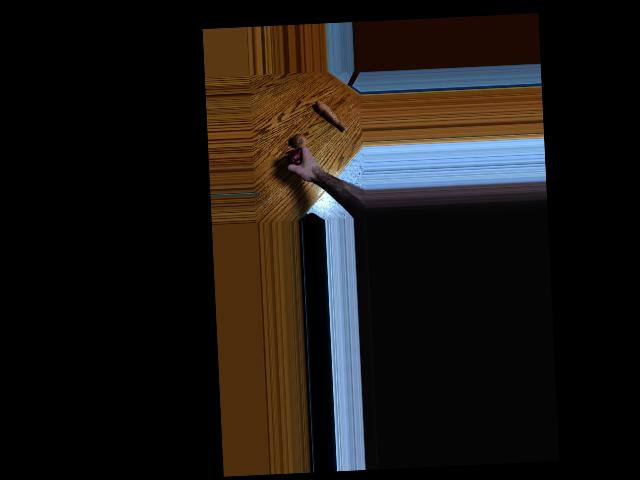onion: (290, 132, 306, 150)
